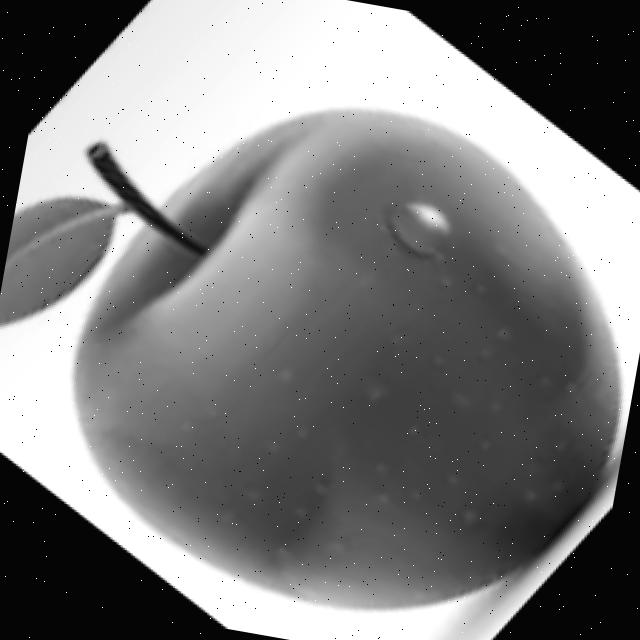Ripe: (32, 57, 640, 640)
